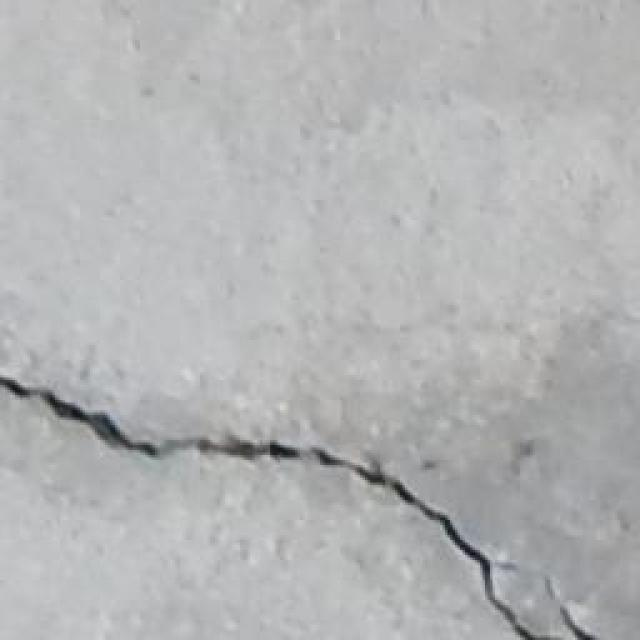concrete-crack: (3, 372, 606, 640)
